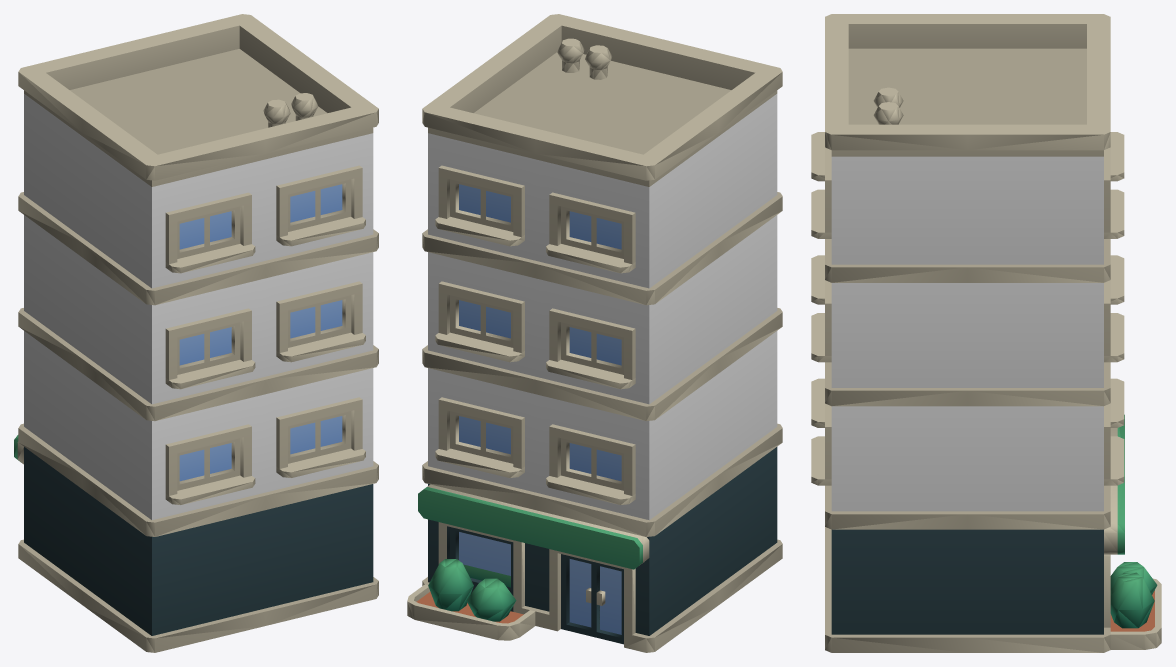
The model's file is building-f.glb.
3 renders of one model, left to right at view 1: azimuth 30°, elevation 25°; view 2: azimuth 150°, elevation 25°; view 3: azimuth 270°, elevation 25°, orthographic. The views are drawn at different scales.
Parts seen in each view (by area): view 1: building-f; view 2: building-f; view 3: building-f.
Boxes of the visible parts, x1,y1,x2,y2 form: building-f: (14,14,378,652); building-f: (407,14,782,652); building-f: (811,14,1161,652).
Size of the model in its own units: 8.4 by 16.93 by 10.3.
